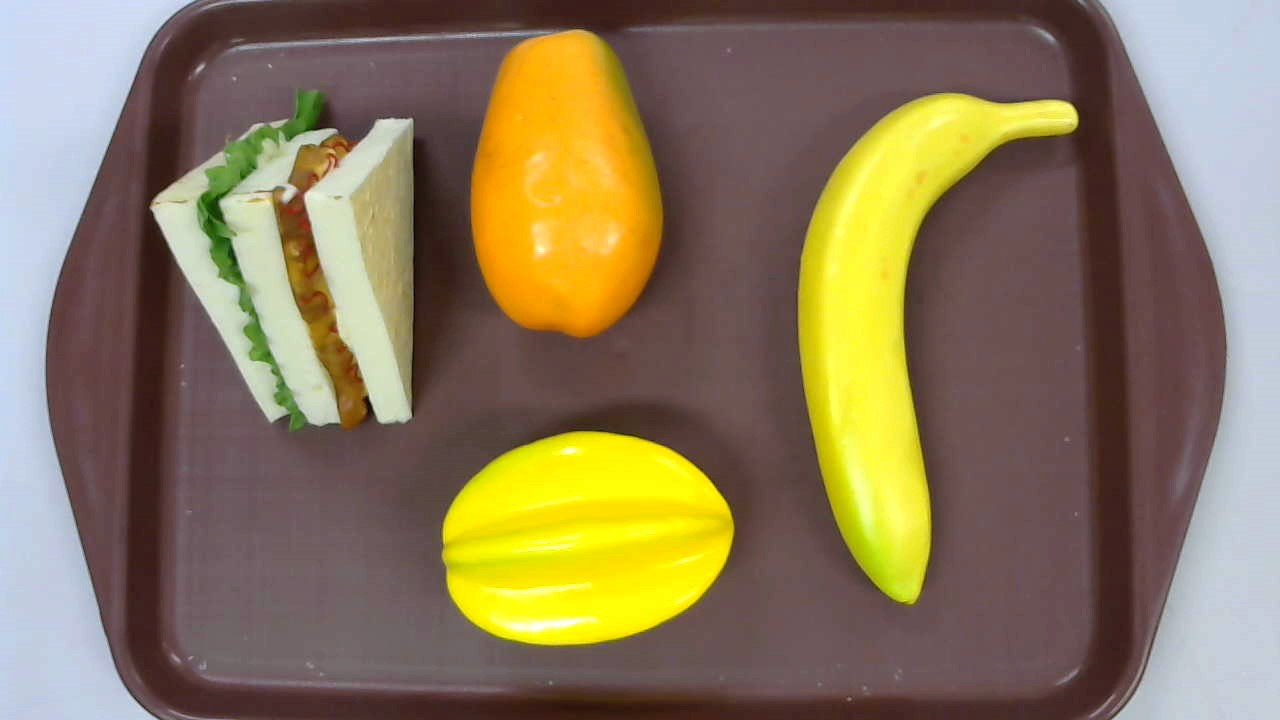banana: (797, 93, 1079, 606)
papya: (468, 30, 663, 340)
sandwich: (149, 89, 416, 432)
star fruit: (441, 429, 735, 648)
